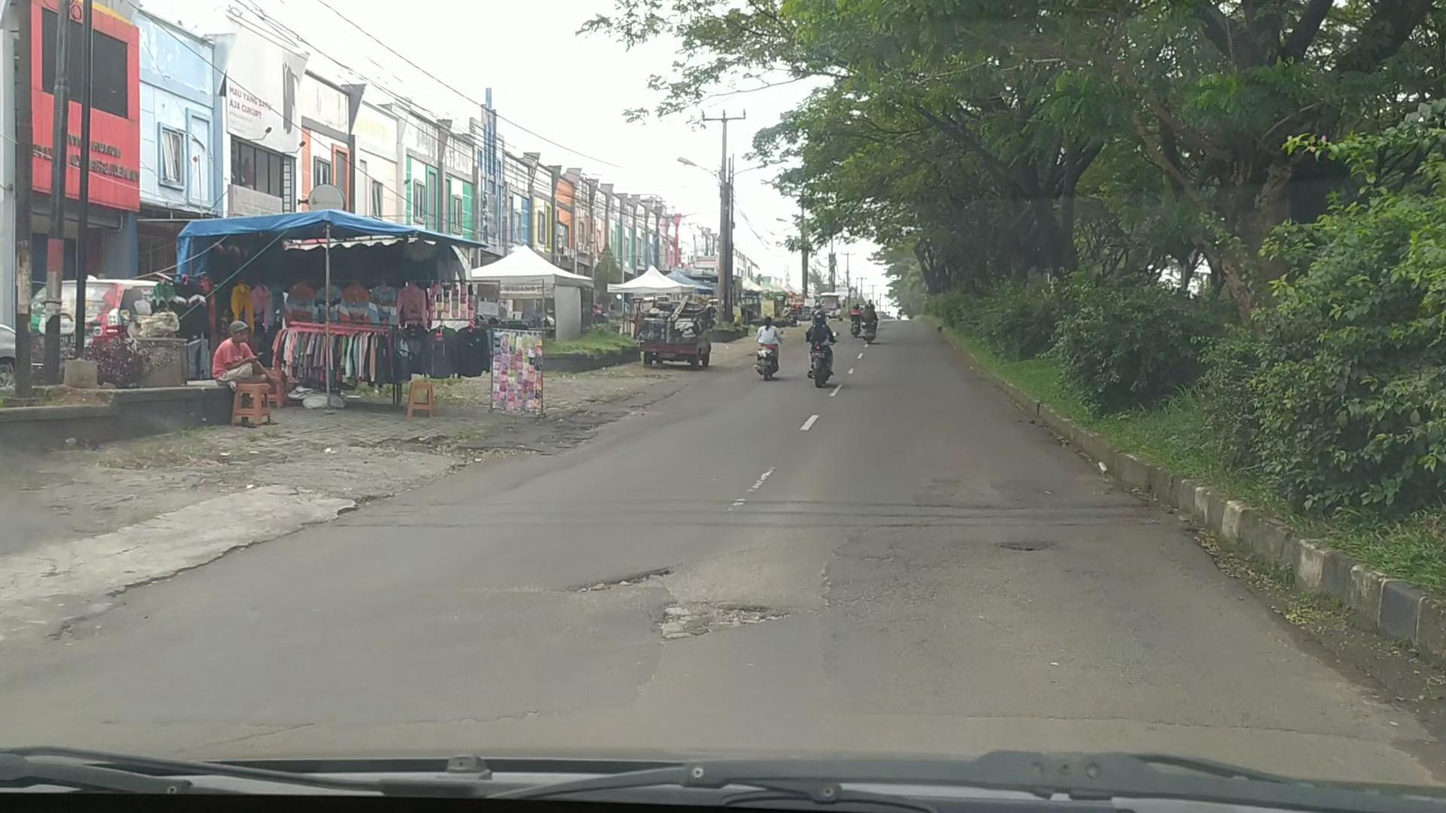pothole: (356, 435, 542, 474), (653, 594, 798, 644), (573, 565, 675, 592), (999, 541, 1055, 554)
